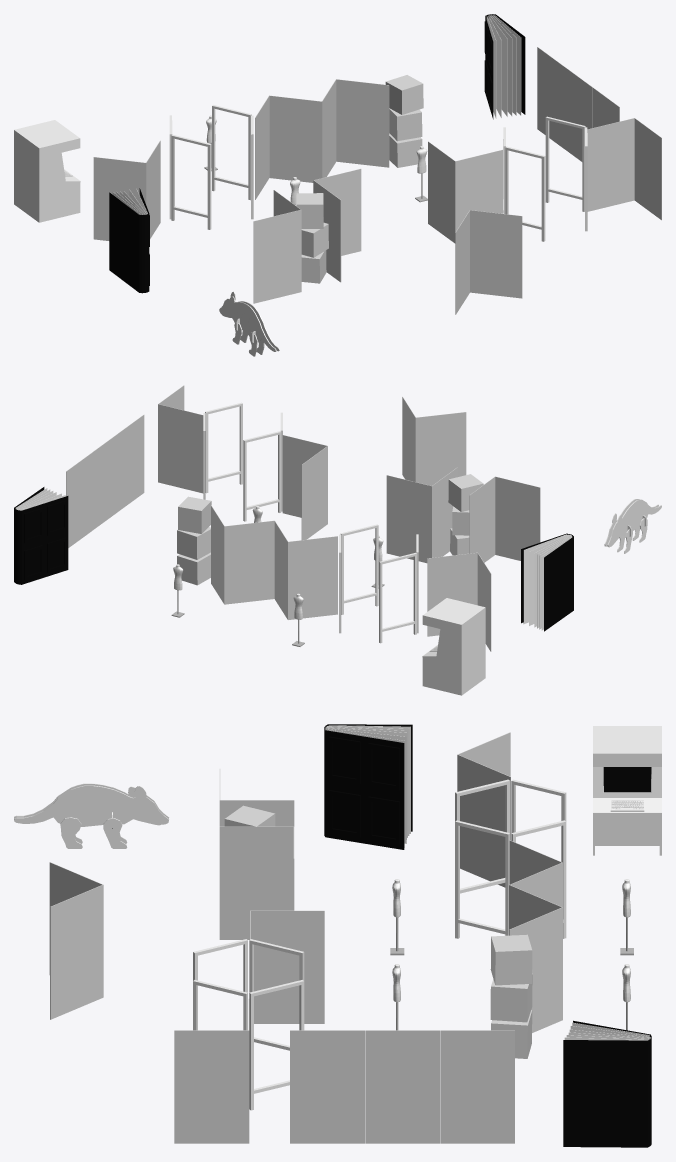
File: piezas.glb
3 views of the same model, one above another, from view 1: azimuth 30°, elevation 25°; view 2: azimuth 150°, elevation 25°; view 3: azimuth 270°, elevation 25° (orthographic). The views are drawn at different scales.
Parts seen in each view (by area): view 1: Cube.016, Plane.014, Plane.004, Plane.005, Cube.009, Cube.007, Cube.012, Cube.011, Plane.006, Cube.021; view 2: Cube.016, Plane.014, Plane.004, Plane.005, Cube.009, Cube.007, Cube.012, Cube.011, Plane.006, Cube.021; view 3: Cube.016, Plane.004, Plane.005, Plane.014, Plane.006, Cube.009, Cube.007, Cube.012, Cube.021, Cube.011.
Boxes of the visible parts, x1,y1,x2,y2 form: Cube.016: [93, 47, 661, 314]; Plane.014: [14, 120, 80, 222]; Plane.004: [484, 14, 525, 119]; Plane.005: [109, 188, 149, 293]; Cube.009: [385, 75, 423, 167]; Cube.007: [169, 105, 253, 229]; Cube.012: [503, 116, 587, 241]; Cube.011: [296, 193, 328, 283]; Plane.006: [219, 291, 279, 356]; Cube.021: [204, 115, 427, 205]; Cube.016: [66, 385, 540, 651]; Plane.014: [422, 598, 485, 695]; Plane.004: [14, 487, 68, 584]; Plane.005: [521, 533, 573, 631]; Cube.009: [177, 496, 211, 585]; Cube.007: [339, 524, 418, 643]; Cube.012: [203, 402, 282, 521]; Cube.011: [448, 474, 483, 555]; Plane.006: [604, 499, 661, 553]; Cube.021: [171, 506, 384, 646]; Cube.016: [49, 732, 562, 1143]; Plane.004: [563, 1020, 651, 1147]; Plane.005: [324, 724, 412, 849]; Plane.014: [593, 726, 661, 855]; Plane.006: [14, 783, 169, 848]; Cube.009: [490, 934, 532, 1058]; Cube.007: [455, 779, 566, 938]; Cube.012: [193, 939, 304, 1110]; Cube.021: [390, 879, 633, 1030]; Cube.011: [224, 805, 275, 826].
Bounding box in the file's own units: 20.17 × 3.46 × 17.32.
Materials: 7 (1 with a texture image).
